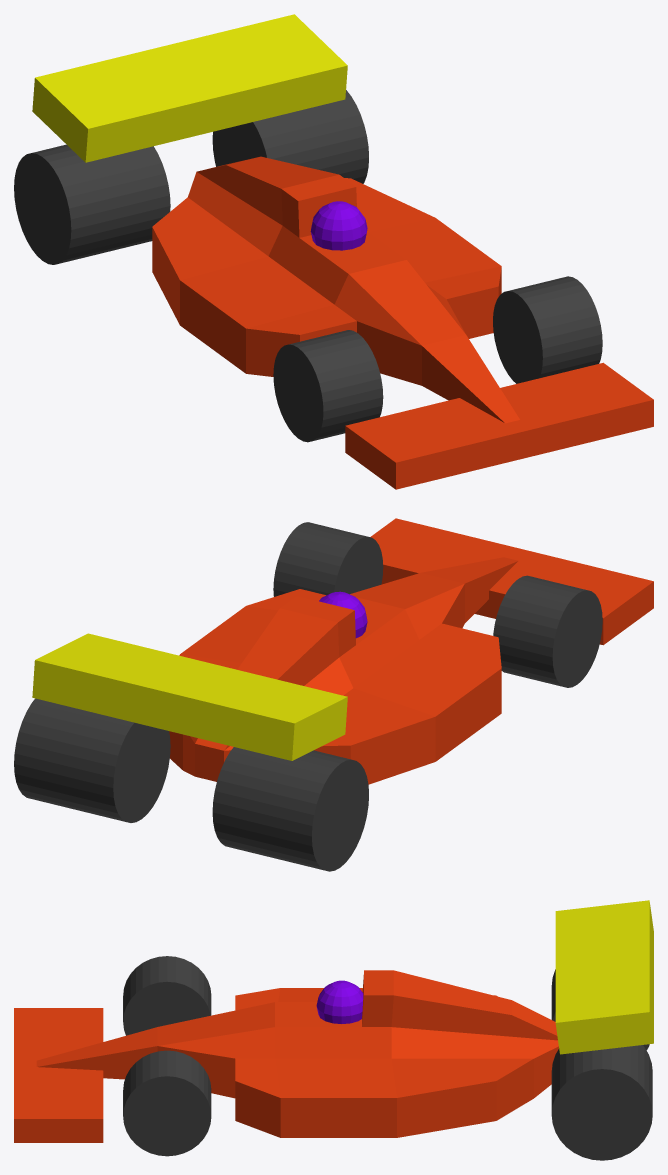
The model's file is car.glb.
3 views of the same model, one above another, from view 1: azimuth 30°, elevation 25°; view 2: azimuth 150°, elevation 25°; view 3: azimuth 270°, elevation 25° (orthographic). The views are drawn at different scales.
Parts seen in each view (by area): view 1: auto, wheel_RR, wheel_FR, wheel_FL, wheel_RL; view 2: auto, wheel_RR, wheel_RL, wheel_FR, wheel_FL; view 3: auto, wheel_RL, wheel_FL, wheel_FR.
Boxes of the visible parts, x1=… form: auto: x1=32, y1=14, x2=653, y2=489; wheel_RR: x1=14, y1=144, x2=170, y2=264; wheel_FR: x1=273, y1=330, x2=383, y2=442; wheel_FL: x1=493, y1=276, x2=602, y2=383; wheel_RL: x1=212, y1=90, x2=368, y2=183; auto: x1=32, y1=518, x2=653, y2=784; wheel_RR: x1=212, y1=747, x2=368, y2=871; wheel_RL: x1=14, y1=698, x2=170, y2=822; wheel_FR: x1=493, y1=575, x2=602, y2=687; wheel_FL: x1=273, y1=522, x2=383, y2=596; auto: x1=14, y1=900, x2=653, y2=1142; wheel_RL: x1=551, y1=1045, x2=652, y2=1160; wheel_FL: x1=123, y1=1050, x2=211, y2=1156; wheel_FR: x1=123, y1=956, x2=211, y2=1035.
Size of the model in its own units: 2.4 by 1.23 by 5.06.
